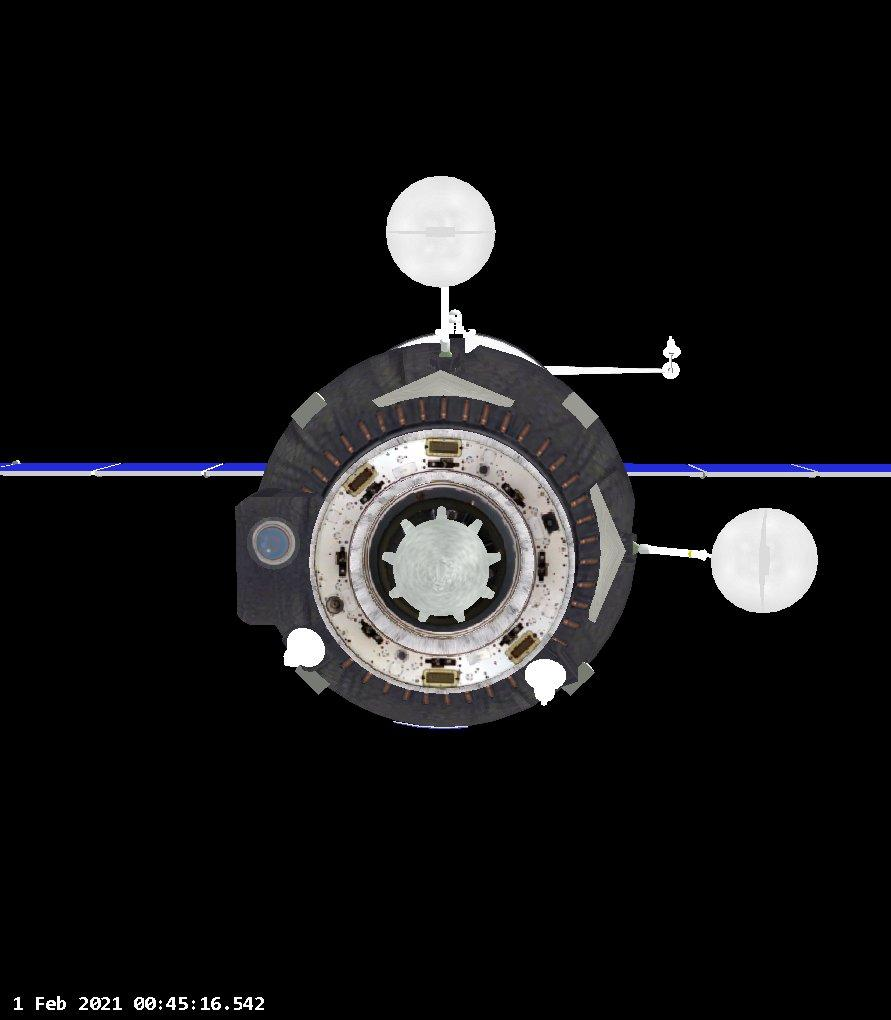antenna: (383, 171, 499, 293), (709, 501, 820, 618), (522, 655, 572, 711), (279, 622, 329, 673), (659, 359, 685, 382), (659, 337, 685, 359)
body: (226, 333, 643, 734)
solar: (2, 444, 275, 492), (616, 451, 891, 484)
